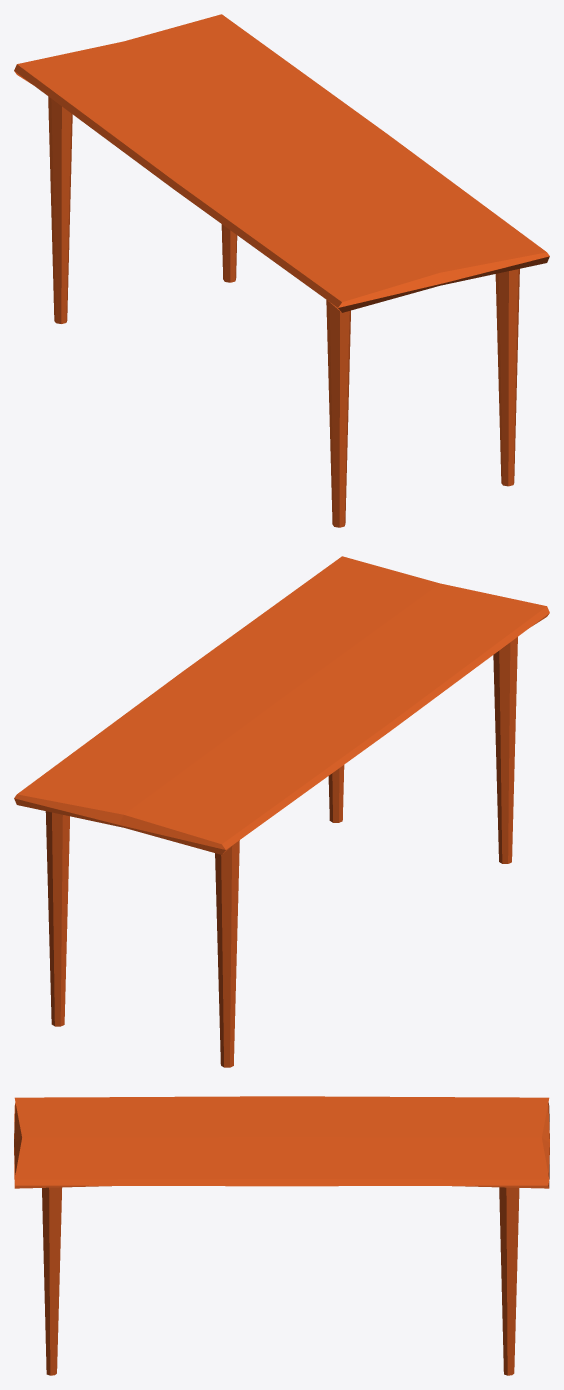
File: true table.obj
3 views of the same model, one above another, from view 1: azimuth 30°, elevation 25°; view 2: azimuth 150°, elevation 25°; view 3: azimuth 270°, elevation 25° (orthographic). The views are drawn at different scales.
Visible parts, largest first — view 1: Cube; view 2: Cube; view 3: Cube.
Boxes of the visible parts, x1,y1,x2,y2 form: Cube: (14,14,549,527); Cube: (14,556,549,1067); Cube: (14,1096,549,1375).
Size of the model in its own units: 1.13 by 1.23 by 2.97.
